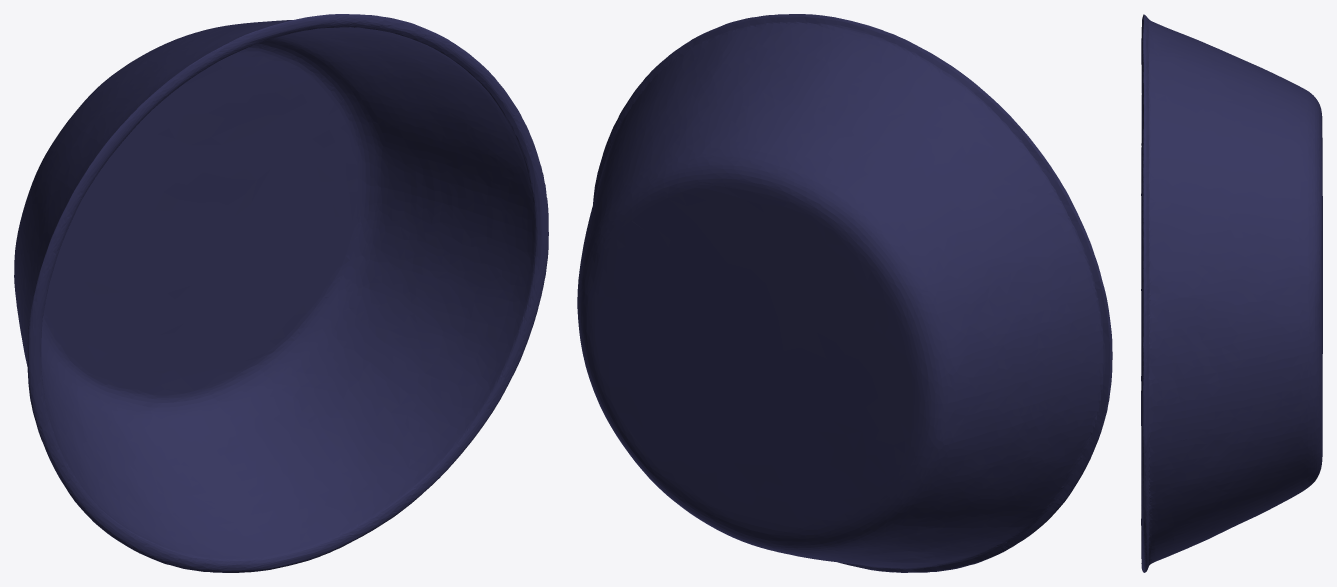
The model's file is bowl.obj.
The picture shows the model from 3 angles, left to right: view 1: azimuth 30°, elevation 25°; view 2: azimuth 150°, elevation 25°; view 3: azimuth 270°, elevation 25°; orthographic projection. The views are drawn at different scales.
Parts seen in each view (by area): view 1: bowl_Mesh; view 2: bowl_Mesh; view 3: bowl_Mesh.
Boxes of the visible parts, <box> form: bowl_Mesh: <box>14,14,548,572</box>; bowl_Mesh: <box>577,14,1112,572</box>; bowl_Mesh: <box>1141,14,1322,572</box>.
Size of the model in its own units: 195 by 195 by 63.48.
1 material, 1 textured.
